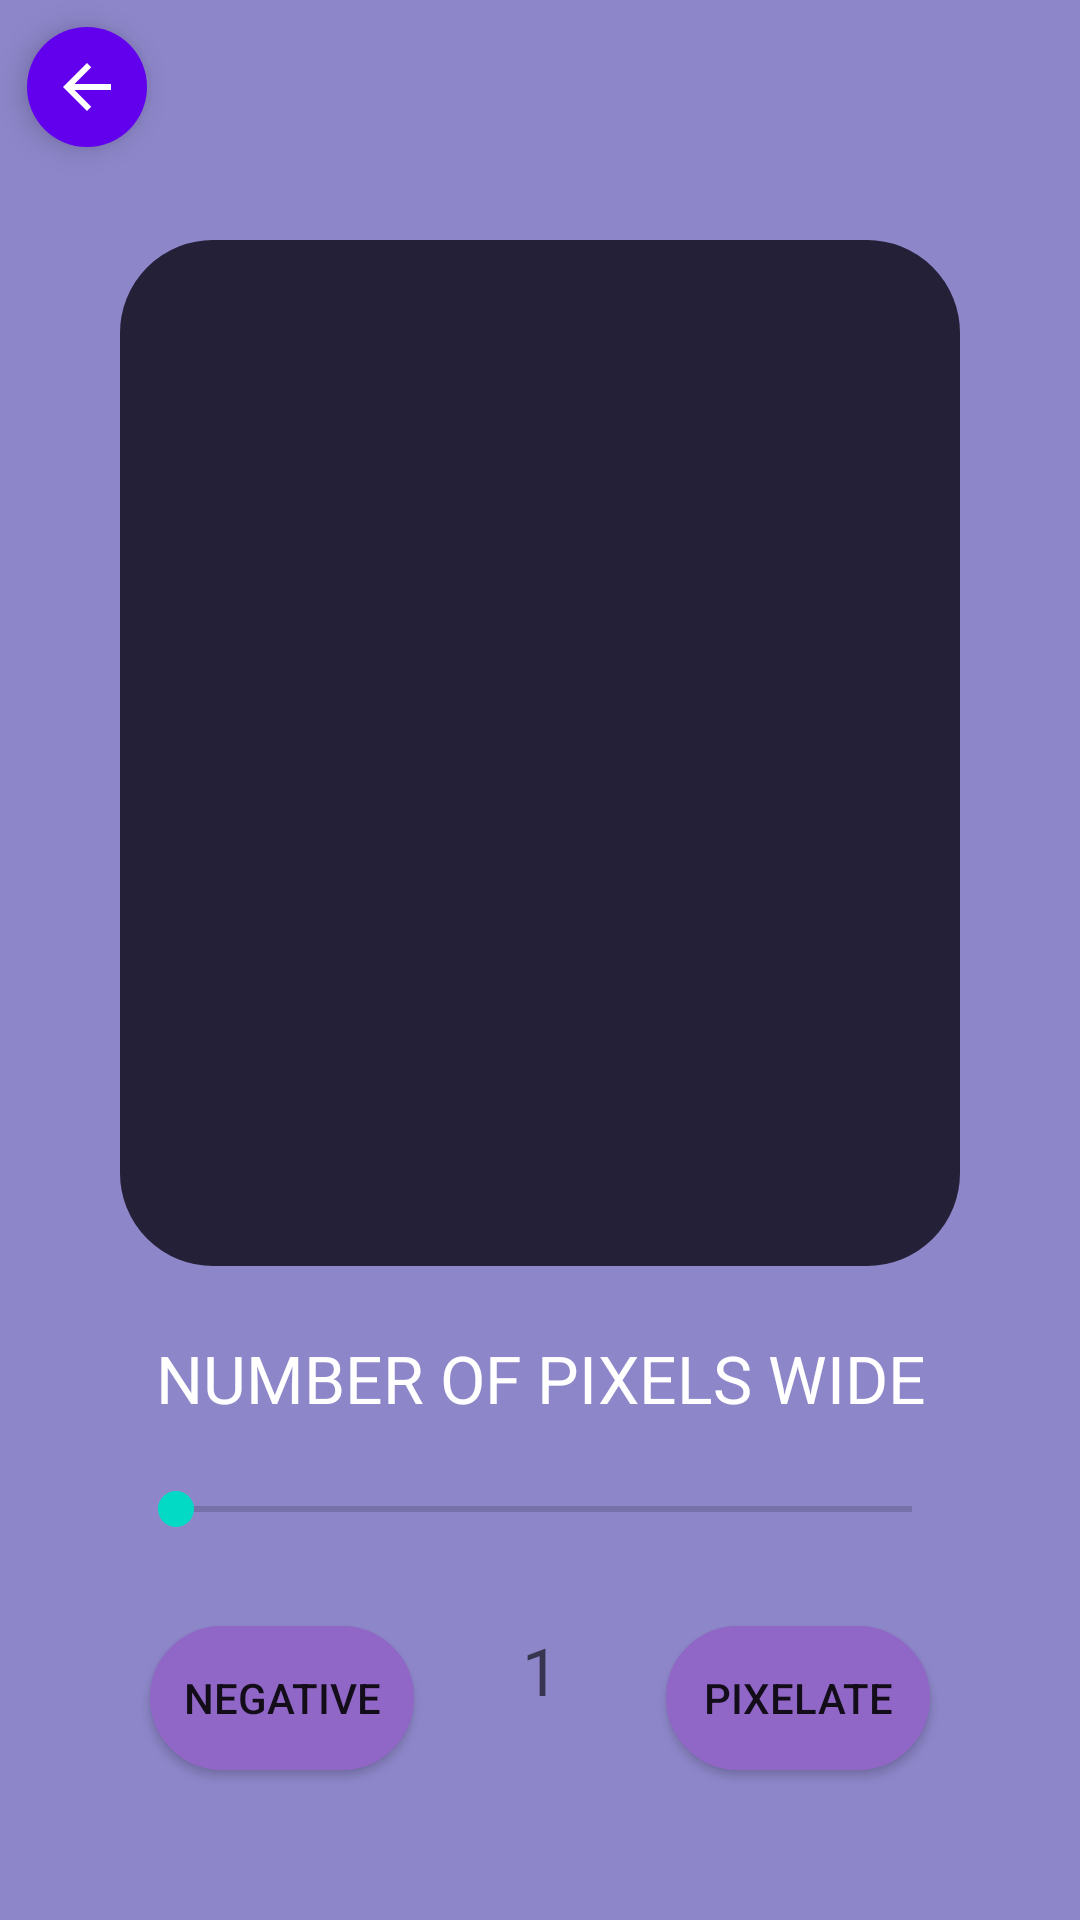

Locate icon controls on the screen. Image size 1080 × 1920, boxes as (x1, y1, x2, y2).
arrow back: (27, 27, 147, 147)
